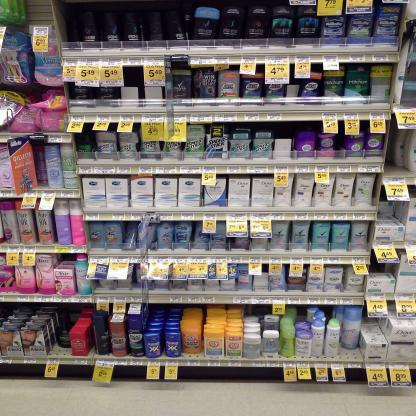Void: (63, 5, 80, 46)
